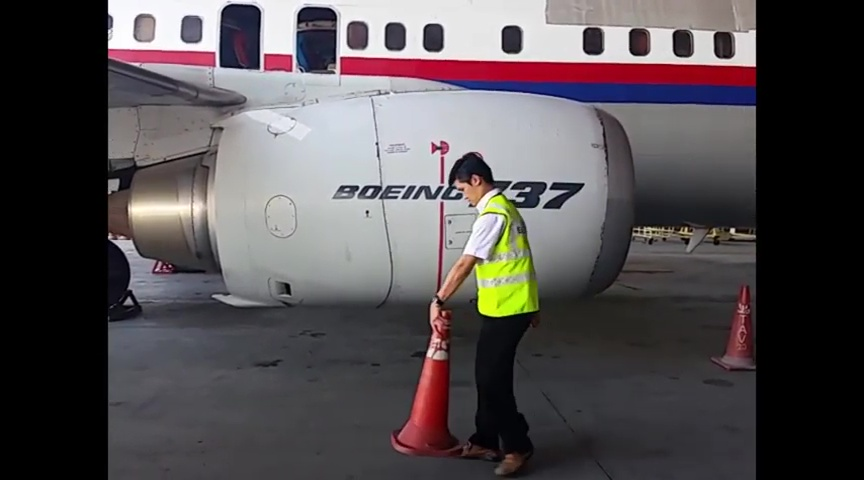safety_cone: (389, 308, 463, 459), (709, 285, 754, 374)
